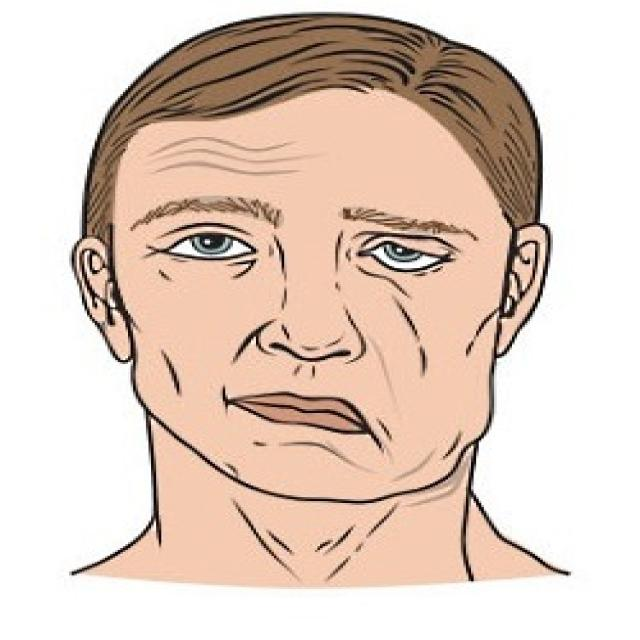stroke_face: (140, 72, 536, 535)
